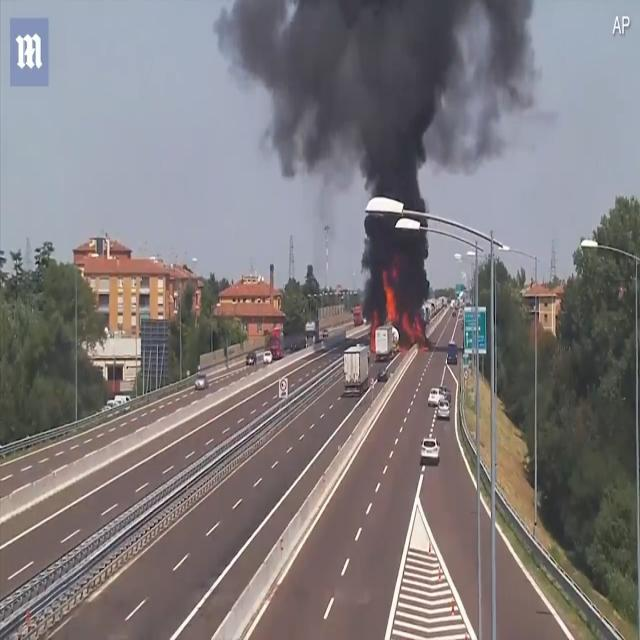Fire: (371, 270, 422, 352)
Smoke: (216, 0, 533, 322)
